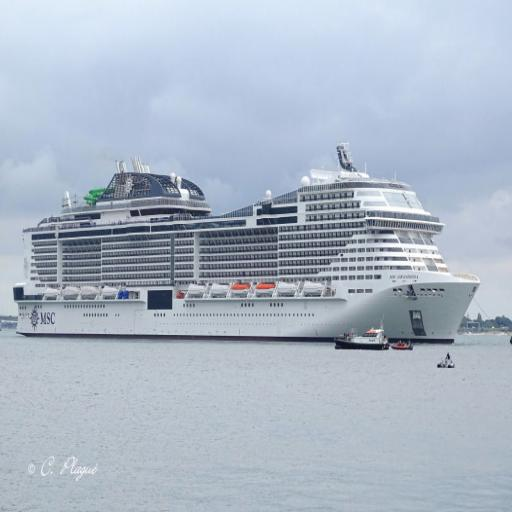cruises: (12, 136, 482, 345)
